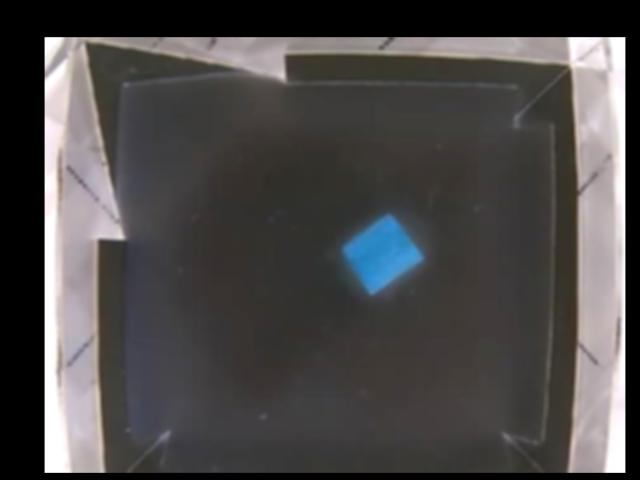Carrot: (344, 216, 423, 290)
